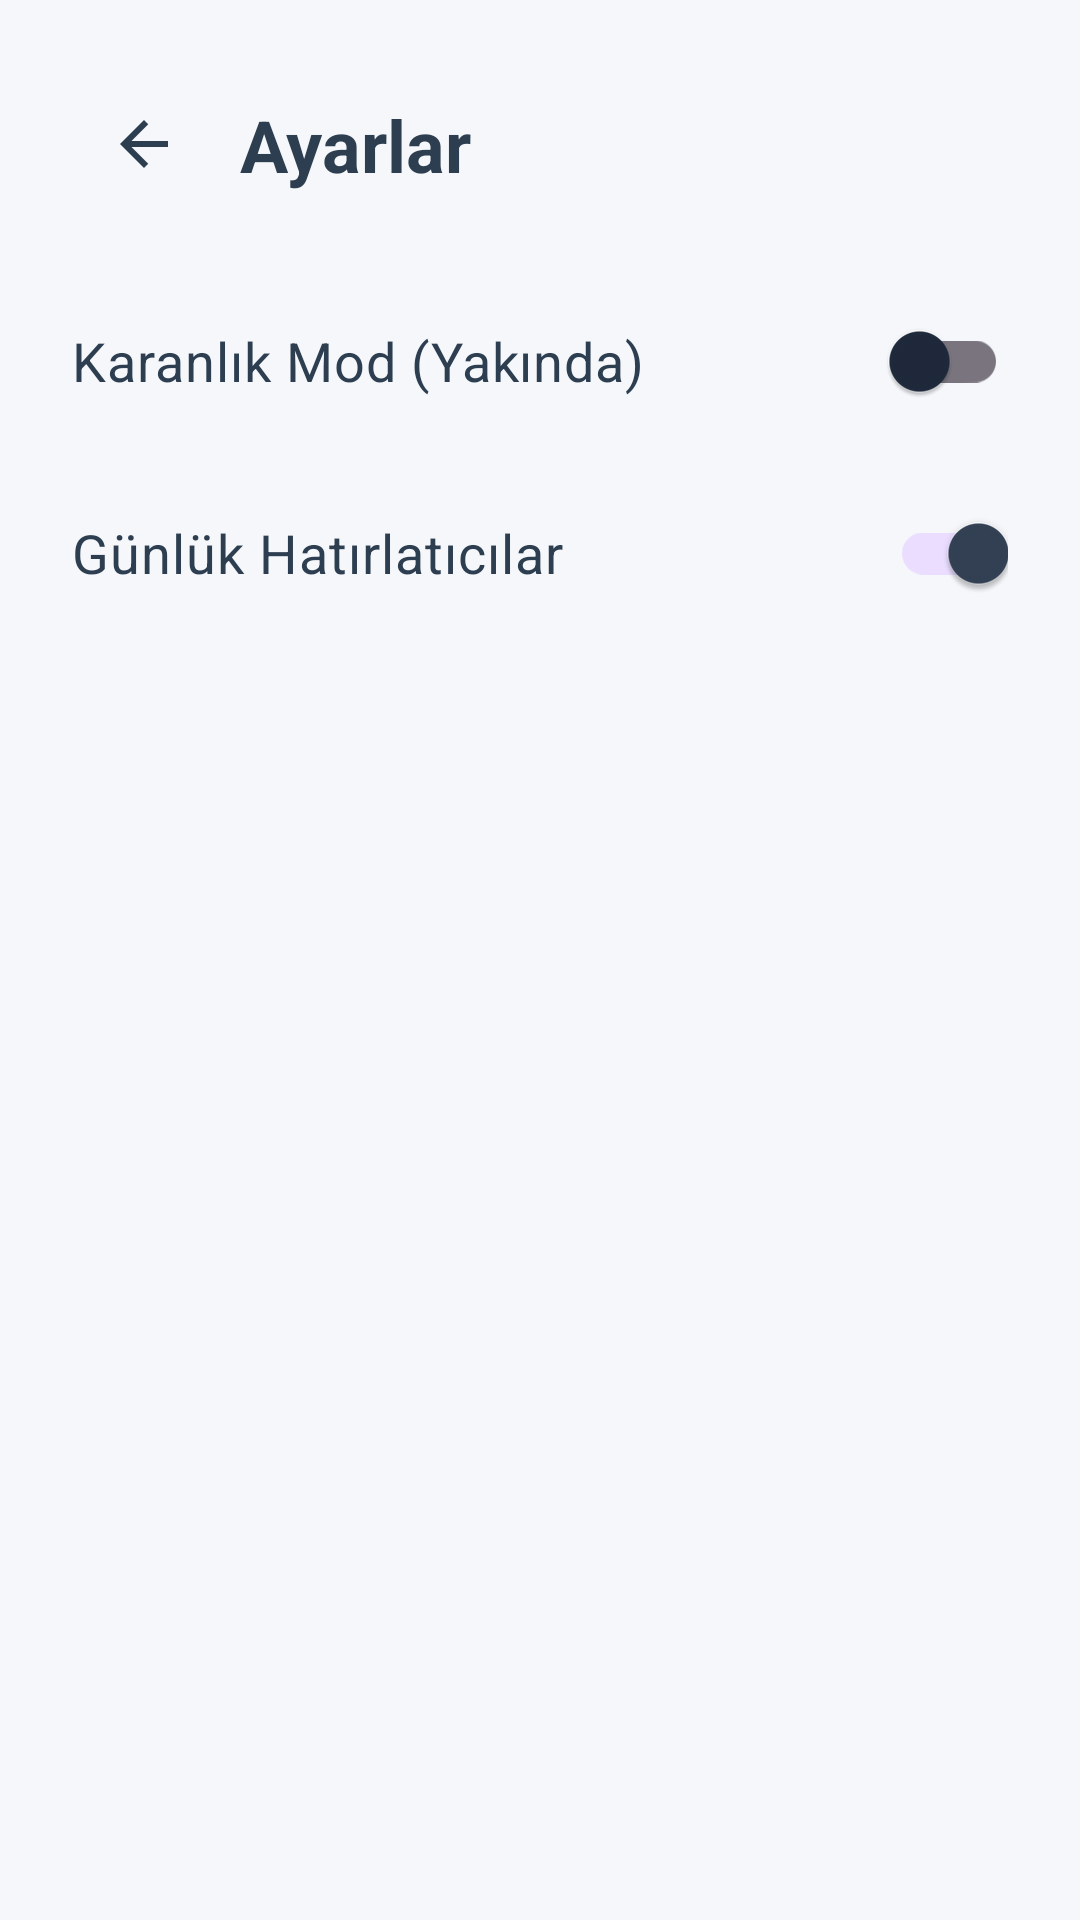

Icon bounding boxes for this 1080 x 1920 phone screenshot, format (x1=x1, y1=y1, x2=x2, y2=y2):
Geri: (x1=120, y1=120, x2=168, y2=168)
